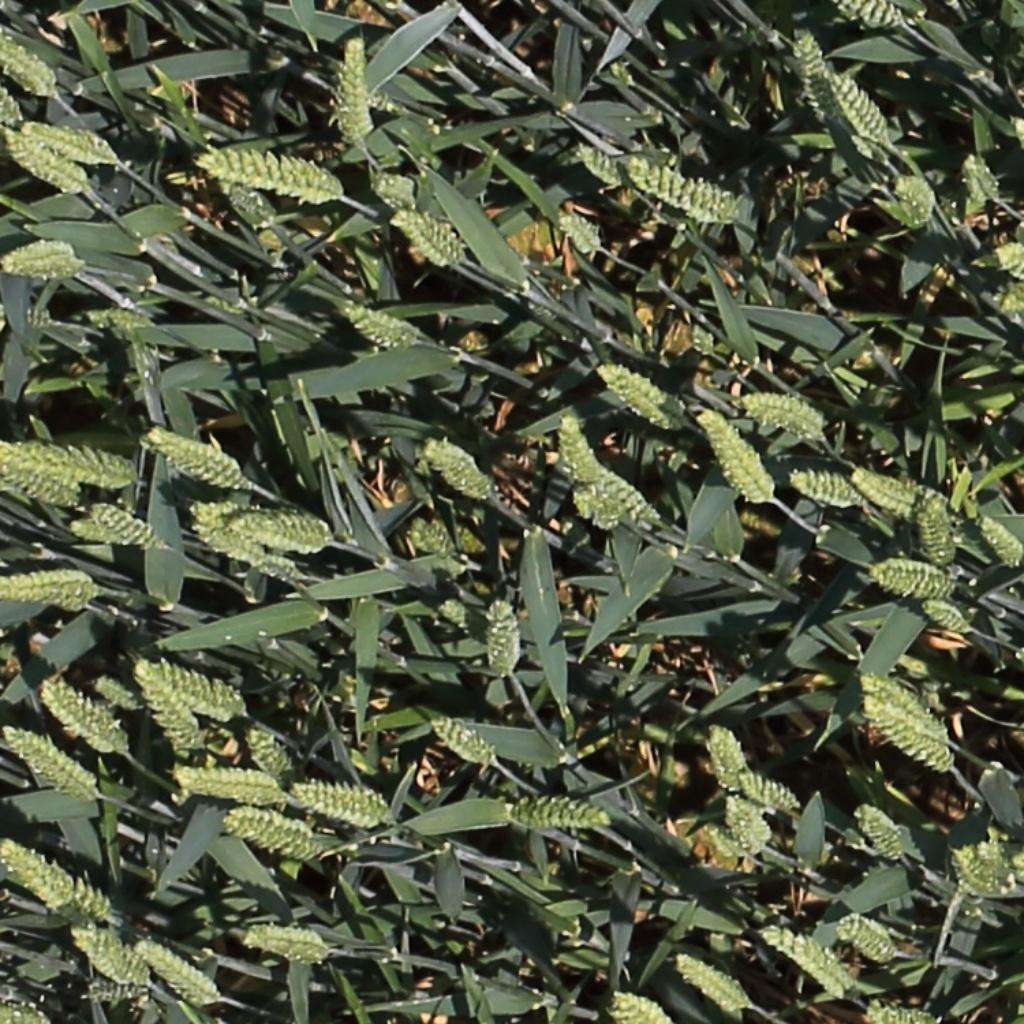0-0: (196, 142, 347, 206), (865, 694, 962, 786), (128, 658, 211, 762), (693, 404, 774, 503), (221, 806, 350, 864), (143, 420, 251, 489), (0, 437, 142, 489), (759, 924, 856, 996), (147, 654, 248, 723), (622, 157, 734, 219), (597, 361, 692, 432), (284, 777, 400, 835), (0, 126, 96, 194), (1, 834, 79, 912), (4, 730, 94, 797), (39, 679, 120, 753), (860, 673, 947, 741), (824, 66, 894, 150), (330, 31, 379, 151), (68, 923, 159, 987), (136, 935, 221, 1002), (196, 522, 294, 579), (853, 466, 955, 520), (170, 761, 289, 807), (729, 386, 825, 443), (865, 553, 960, 609), (671, 954, 758, 1015), (21, 113, 122, 163), (503, 790, 614, 835), (424, 438, 499, 502), (791, 27, 839, 125), (389, 207, 463, 270), (228, 511, 338, 552), (593, 461, 661, 526), (239, 921, 338, 963), (402, 513, 496, 556), (549, 411, 601, 488), (0, 28, 60, 94), (0, 565, 104, 603), (2, 236, 85, 283), (851, 800, 907, 866), (0, 465, 84, 509), (241, 722, 293, 790), (720, 790, 770, 858), (337, 300, 409, 345), (184, 492, 261, 534), (425, 716, 492, 764), (88, 502, 159, 547), (572, 482, 631, 535), (703, 720, 746, 789), (82, 297, 162, 334), (733, 772, 800, 816), (357, 167, 428, 208), (974, 512, 1024, 570), (912, 494, 954, 563), (483, 600, 520, 677), (787, 471, 866, 506), (835, 913, 895, 959), (958, 146, 1002, 206), (572, 139, 626, 187), (890, 169, 936, 225), (218, 177, 274, 223), (0, 296, 62, 337), (974, 835, 1013, 900), (552, 207, 602, 255), (76, 978, 154, 1007), (835, 0, 904, 32), (73, 876, 118, 921), (610, 991, 671, 1024), (948, 842, 984, 893), (66, 520, 135, 546), (921, 599, 970, 634), (90, 675, 139, 709), (0, 73, 27, 131), (862, 1003, 935, 1024), (988, 286, 1024, 325), (995, 236, 1024, 280), (1, 1002, 56, 1024), (50, 596, 100, 618), (1013, 864, 1024, 883)
